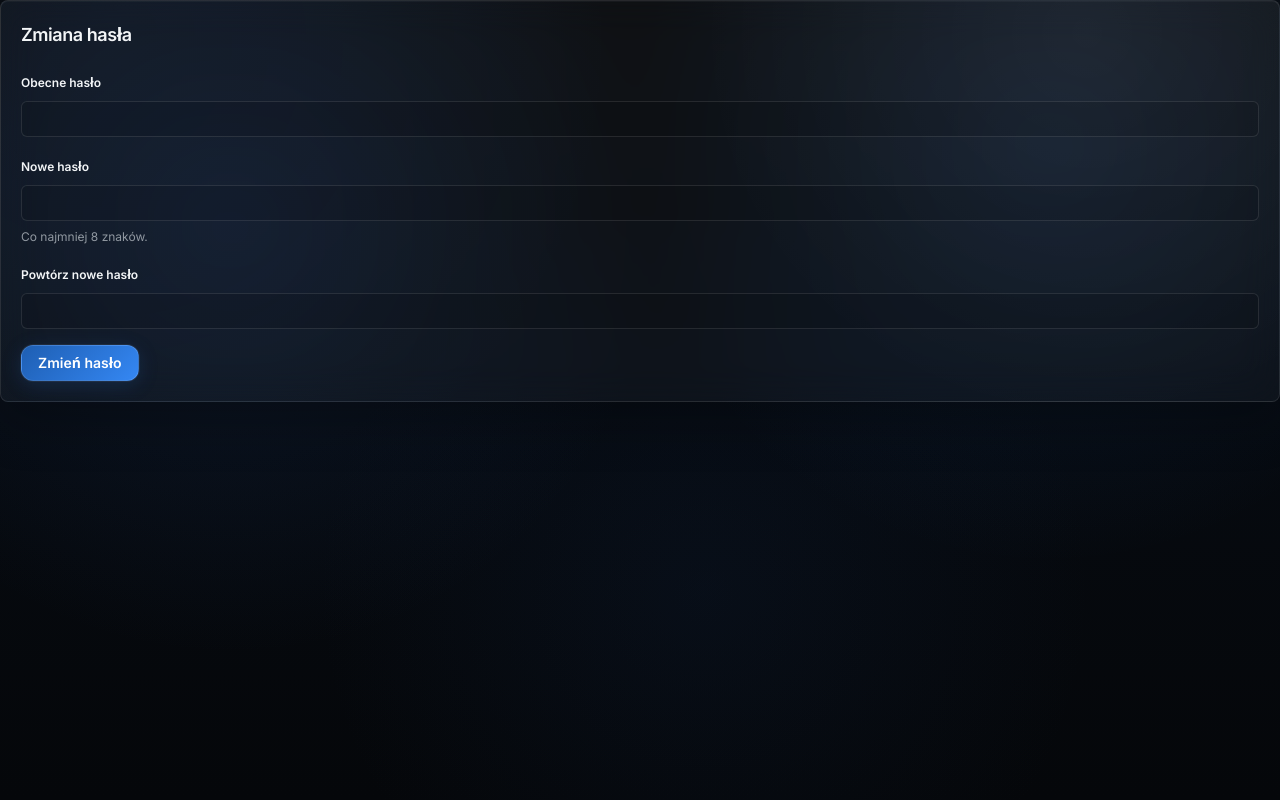
Test case: ChangePasswordCard › blocks mismatched confirmation
The image size is (1280, 800).
Step 1. Type "demo1234" into the password field labelled "Obecne hasło" → {"x": 640, "y": 119}, box [21,101,1259,137]
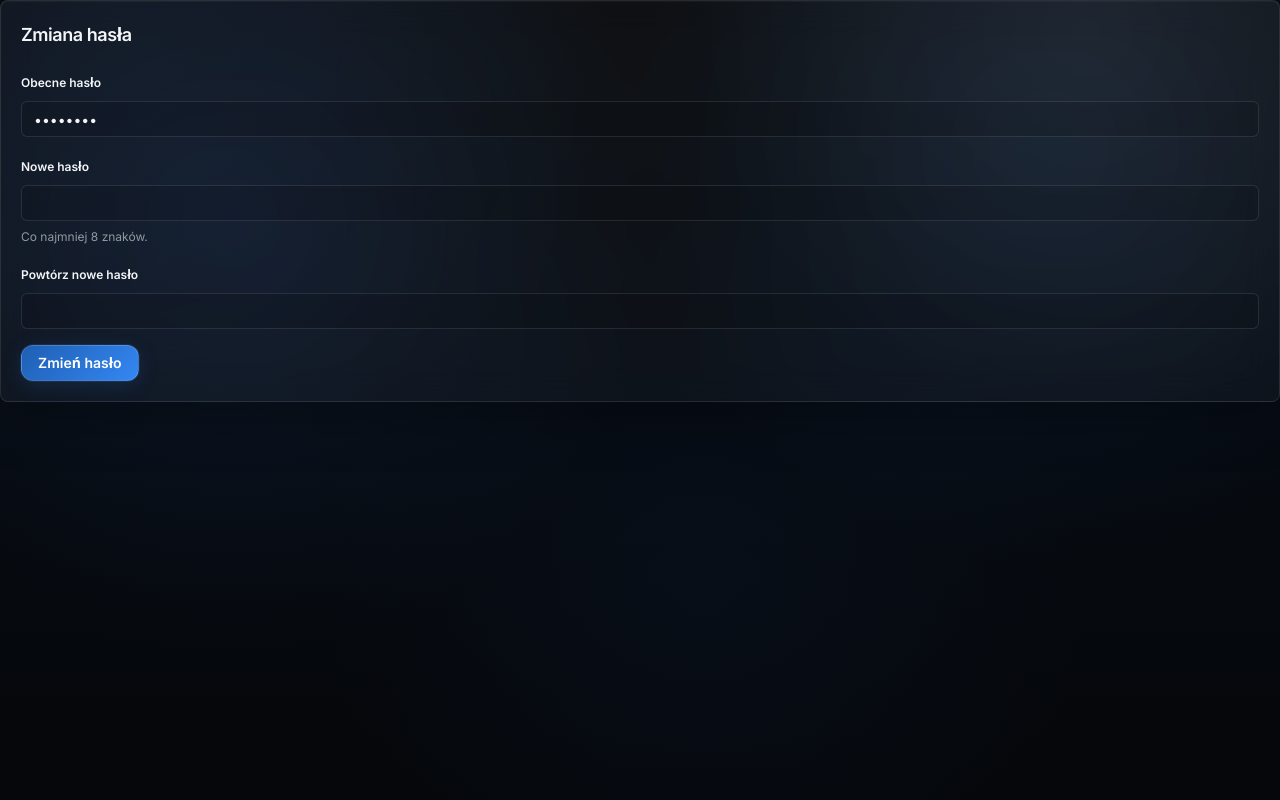
Step 2. Type "NoweHaslo123" into the password field labelled "Nowe hasło" → {"x": 640, "y": 203}, box [21,185,1259,221]
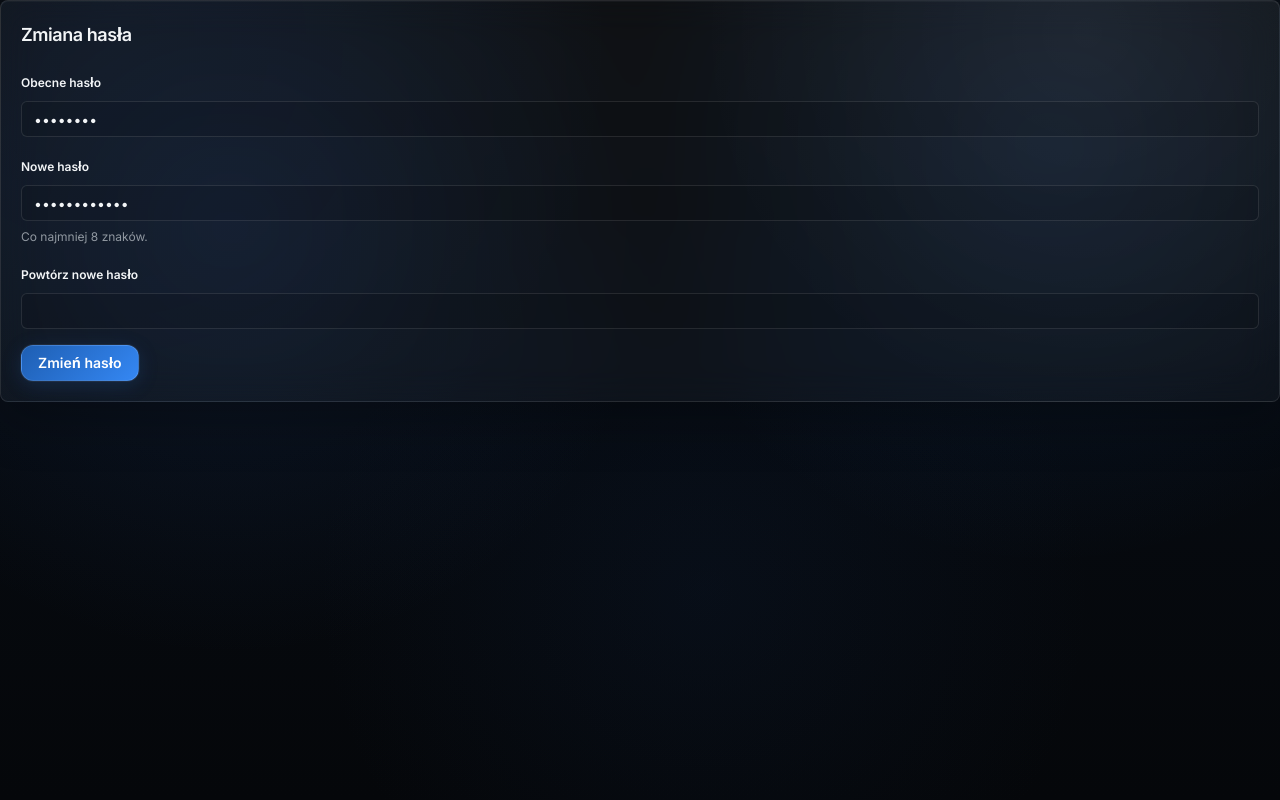
Step 3. Type "Inne12345" into the password field labelled "Powtórz nowe hasło" → {"x": 640, "y": 311}, box [21,293,1259,329]
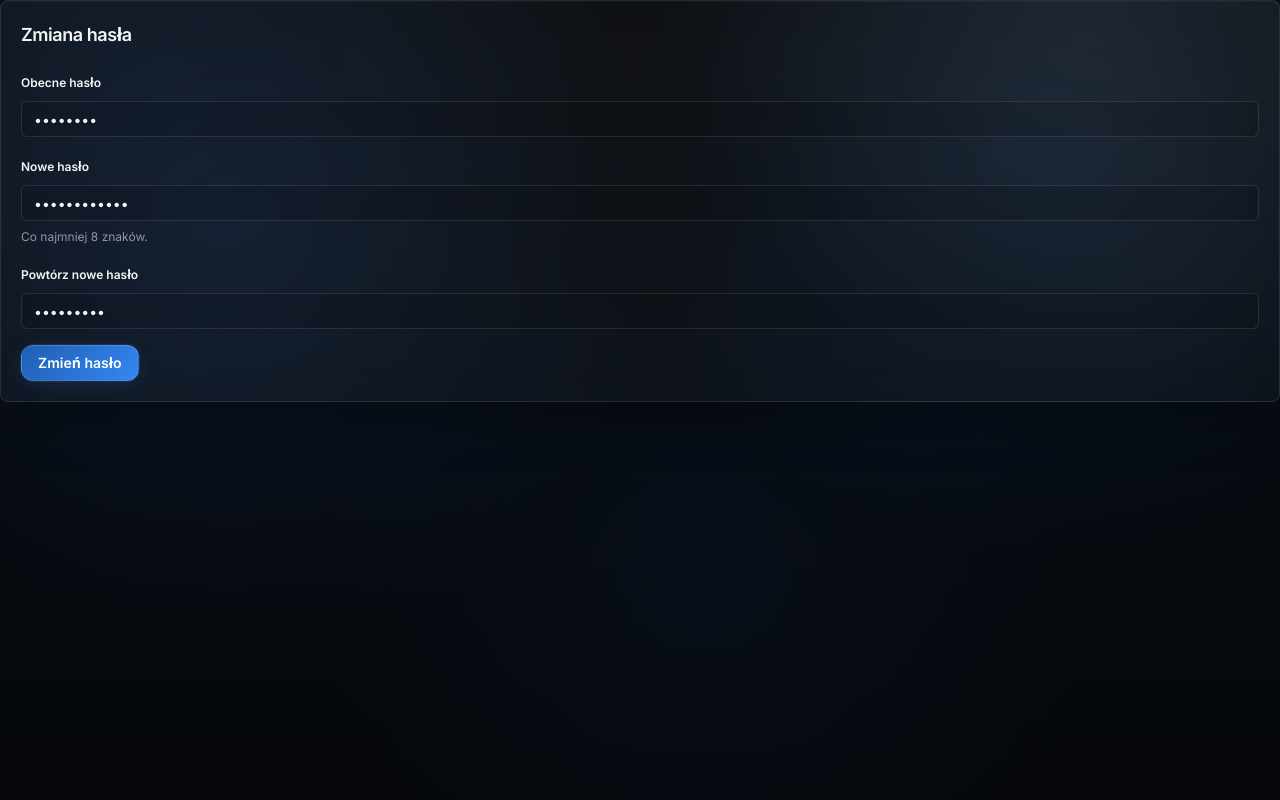
Step 4. Click the button "Zmień hasło" → {"x": 80, "y": 363}, box [21,345,138,381]
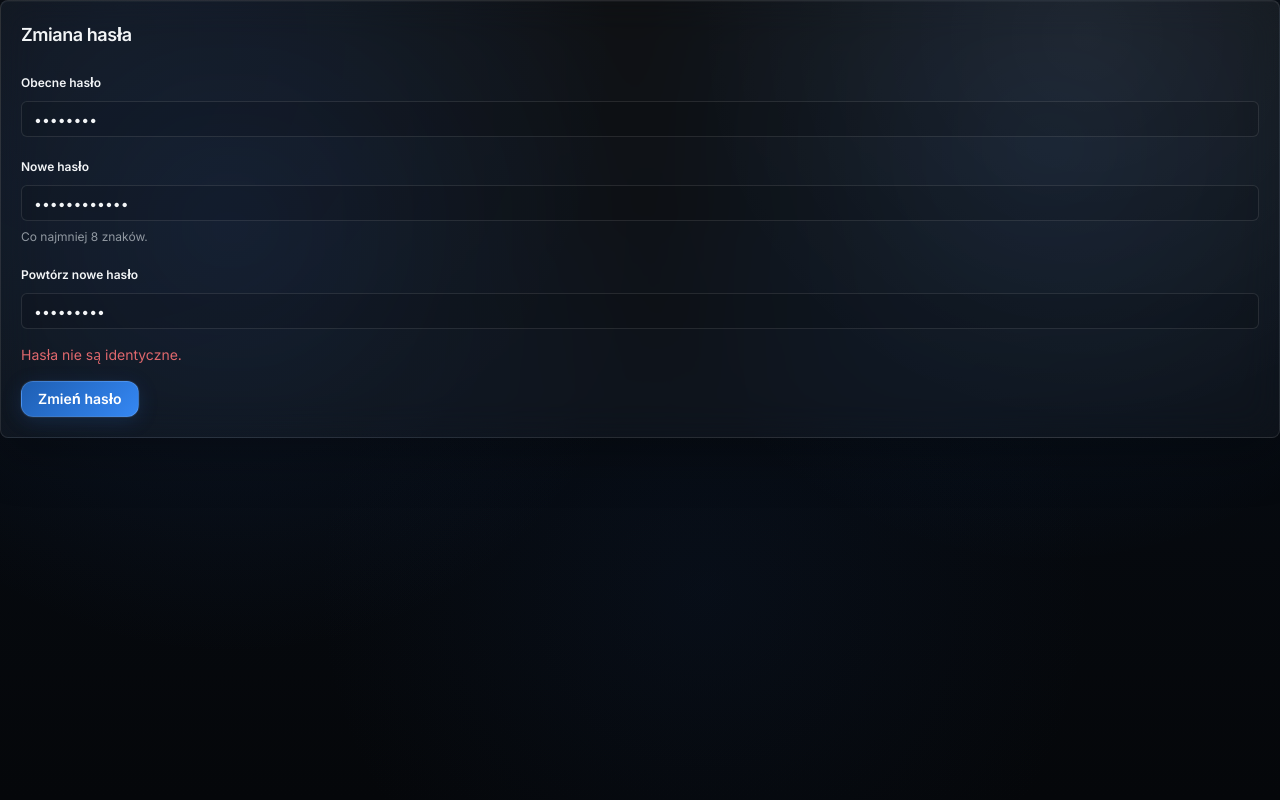
Result: the message reads "Hasła nie są identyczne." at [21,346,182,363]
